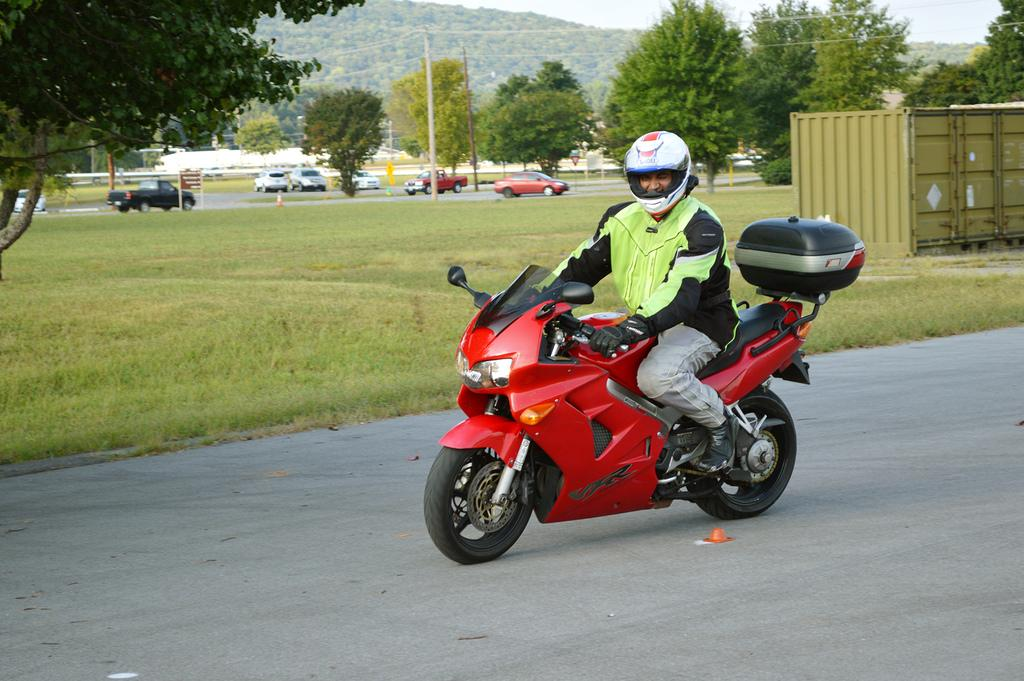helmet: (623, 130, 692, 216)
